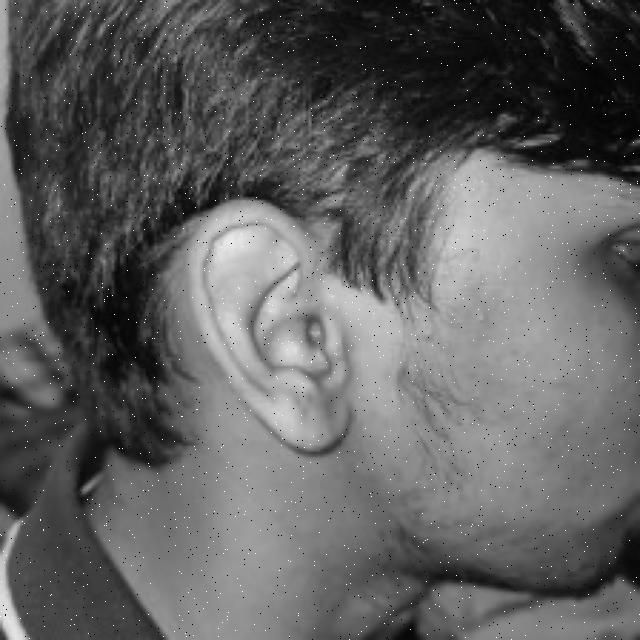ear: (186, 200, 346, 451)
